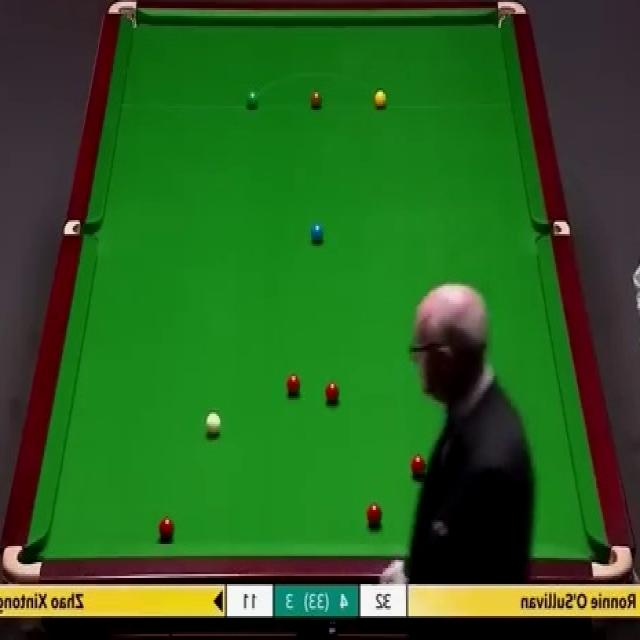pocket: (1, 543, 46, 582), (591, 543, 634, 582), (495, 0, 528, 34), (110, 0, 141, 32), (64, 218, 101, 238), (535, 220, 573, 235)
